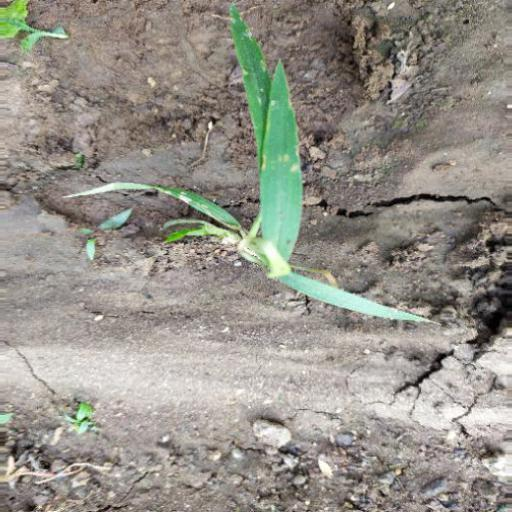weed: (72, 11, 459, 347)
